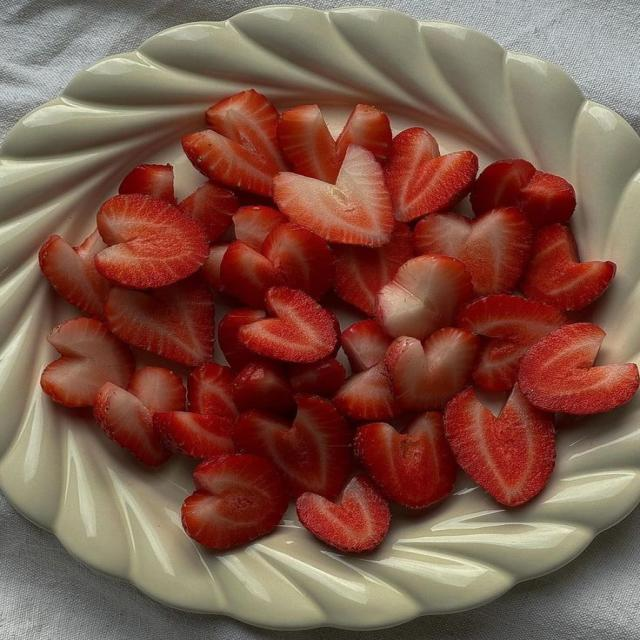strawberry sliced: (445, 386, 555, 506), (274, 145, 394, 246), (234, 395, 351, 498), (519, 323, 639, 414), (94, 194, 208, 288), (414, 208, 533, 295), (458, 295, 566, 390), (182, 455, 287, 549), (354, 412, 456, 508), (105, 277, 214, 366), (386, 128, 478, 222), (41, 318, 134, 406), (376, 255, 472, 340), (521, 225, 616, 310), (385, 328, 479, 411), (238, 287, 337, 362), (334, 223, 413, 315), (296, 475, 390, 552), (471, 159, 575, 228), (206, 89, 286, 171), (182, 130, 278, 196), (94, 383, 170, 466), (39, 230, 110, 318), (262, 223, 334, 299), (458, 295, 566, 344), (386, 128, 439, 219), (278, 105, 339, 183), (220, 241, 282, 307), (154, 411, 234, 459), (333, 362, 398, 420), (471, 159, 535, 214), (180, 181, 237, 241), (336, 104, 392, 163), (518, 171, 576, 227), (233, 361, 295, 413), (218, 308, 266, 371), (473, 338, 530, 391), (187, 363, 238, 421), (127, 367, 186, 413), (341, 321, 392, 372), (234, 206, 286, 251), (119, 164, 176, 204), (289, 357, 346, 397), (199, 243, 230, 291)
